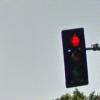Traffic light: (54, 20, 92, 95)
